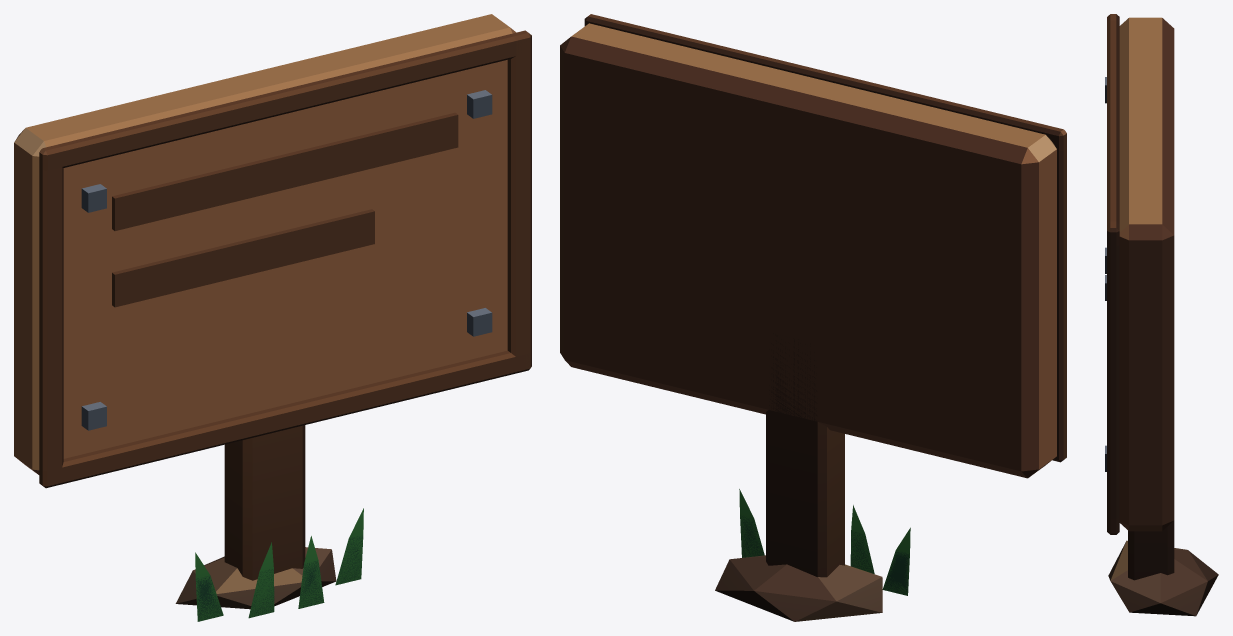
The model's file is sign.glb.
3 renders of one model, left to right at view 1: azimuth 30°, elevation 25°; view 2: azimuth 150°, elevation 25°; view 3: azimuth 270°, elevation 25°, orthographic. The views are drawn at different scales.
Visible parts, largest first — view 1: sign; view 2: sign; view 3: sign.
Boxes of the visible parts, bbox=[...] form: sign: bbox=[14, 14, 531, 621]; sign: bbox=[560, 14, 1066, 621]; sign: bbox=[1105, 14, 1218, 616].
Size of the model in its own units: 0.94 by 0.94 by 0.2265.
